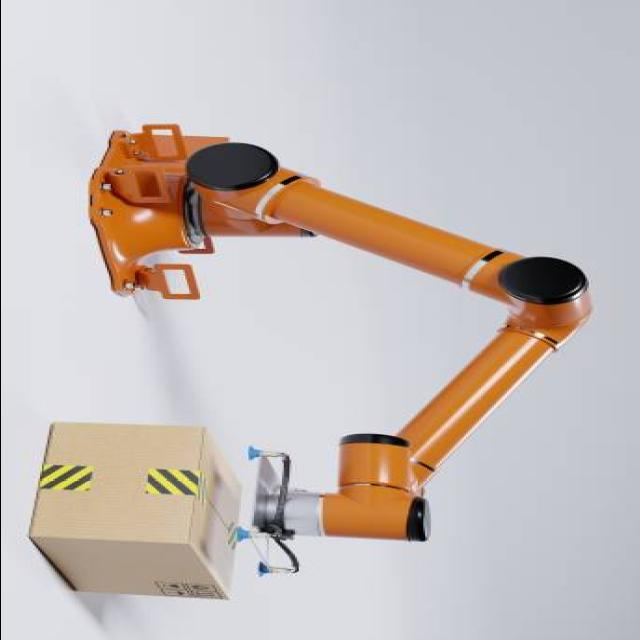Robotic-arm: (76, 118, 600, 548)
